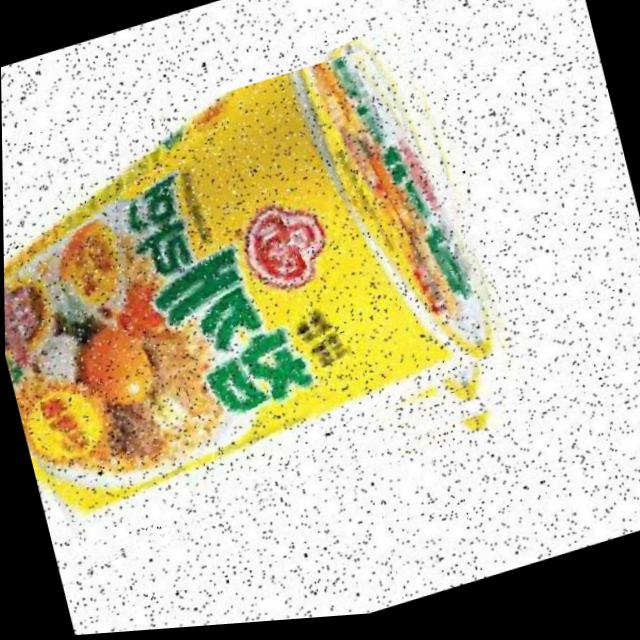Miscellaneous: (1, 30, 530, 579)
